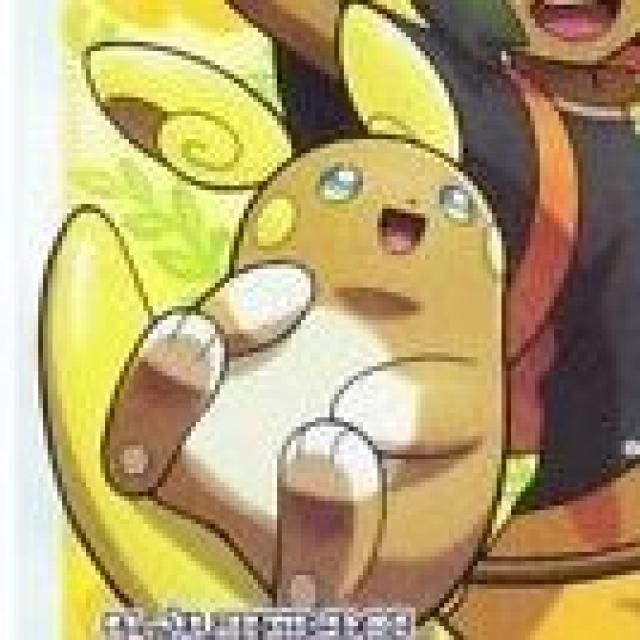Raichu: (88, 23, 498, 608)
